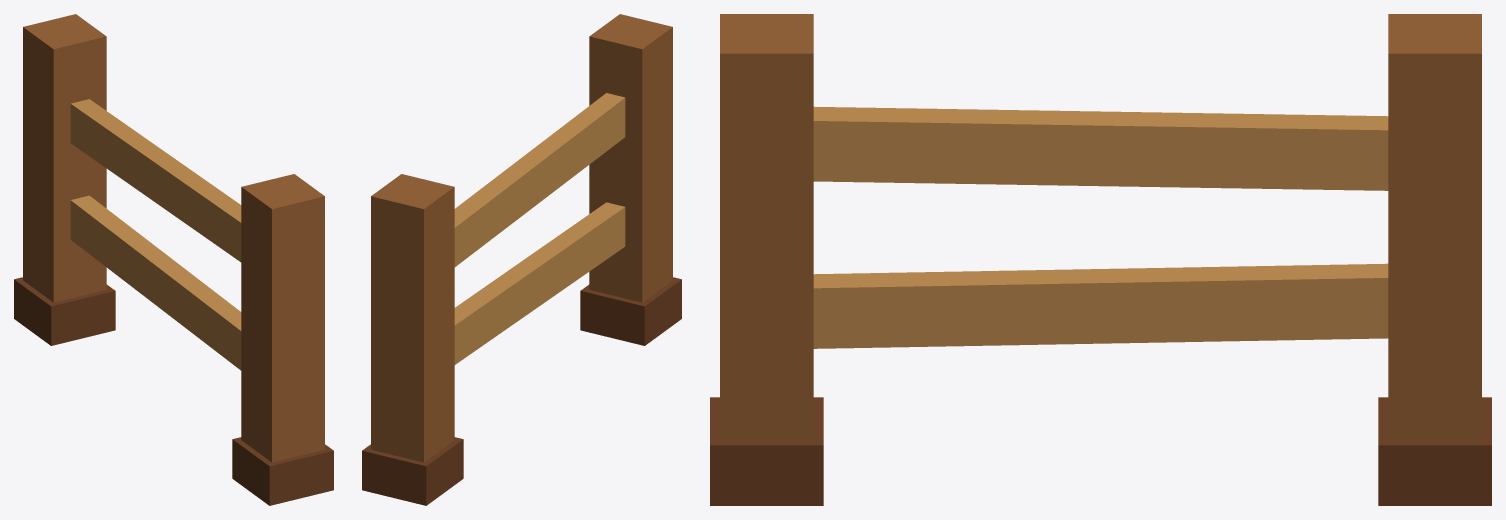
Rendered from fence-1.glb.
The picture shows the model from 3 angles, left to right: view 1: azimuth 30°, elevation 25°; view 2: azimuth 150°, elevation 25°; view 3: azimuth 270°, elevation 25°; orthographic projection. The views are drawn at different scales.
Visible parts, largest first — view 1: Fence1_Panel; view 2: Fence1_Panel; view 3: Fence1_Panel.
Boxes of the visible parts, x1,y1,x2,y2 form: Fence1_Panel: (14,14,333,505); Fence1_Panel: (362,14,681,505); Fence1_Panel: (710,14,1491,505).
Size of the model in its own units: 0.17 by 0.74 by 1.17.
